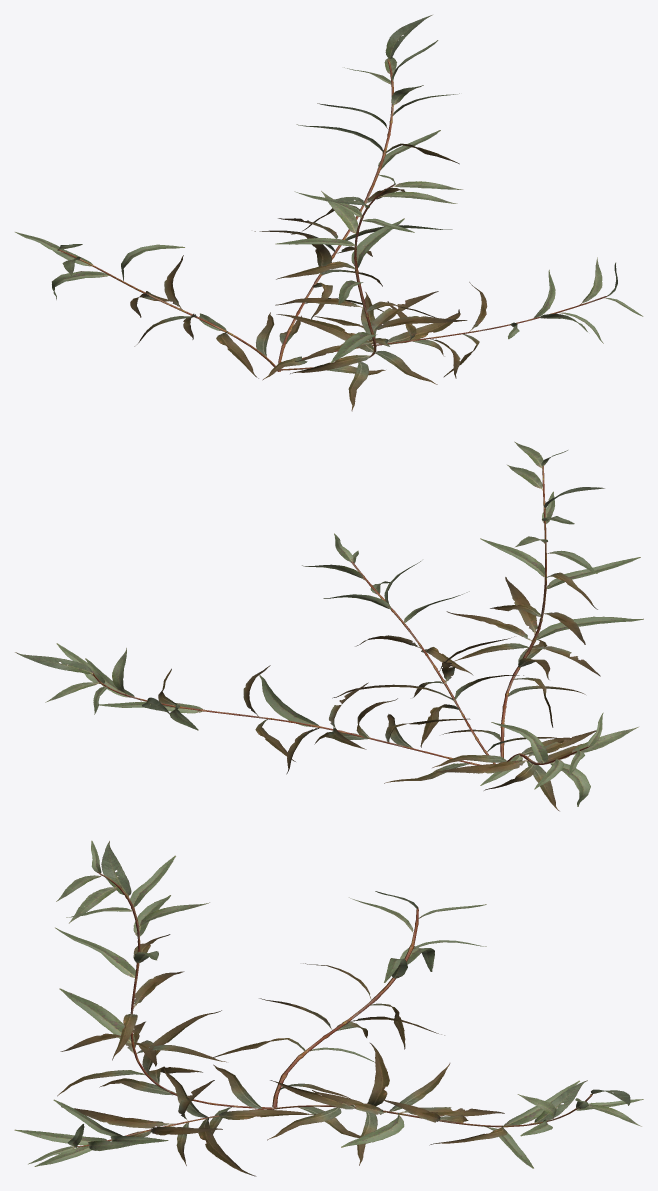
The model's file is Leafy_Clump_A.fbx.
3 renders of one model, top to bottom at view 1: azimuth 30°, elevation 25°; view 2: azimuth 150°, elevation 25°; view 3: azimuth 270°, elevation 25°, orthographic. The views are drawn at different scales.
Visible parts, largest first — view 1: Leafy_Clump_A; view 2: Leafy_Clump_A; view 3: Leafy_Clump_A.
Boxes of the visible parts, <box> form: Leafy_Clump_A: <box>15,15,643,411</box>; Leafy_Clump_A: <box>15,441,643,811</box>; Leafy_Clump_A: <box>14,840,643,1176</box>.
Bounding box in the file's own units: 0.6395 × 0.32 × 0.65.
1 material, 1 textured.
